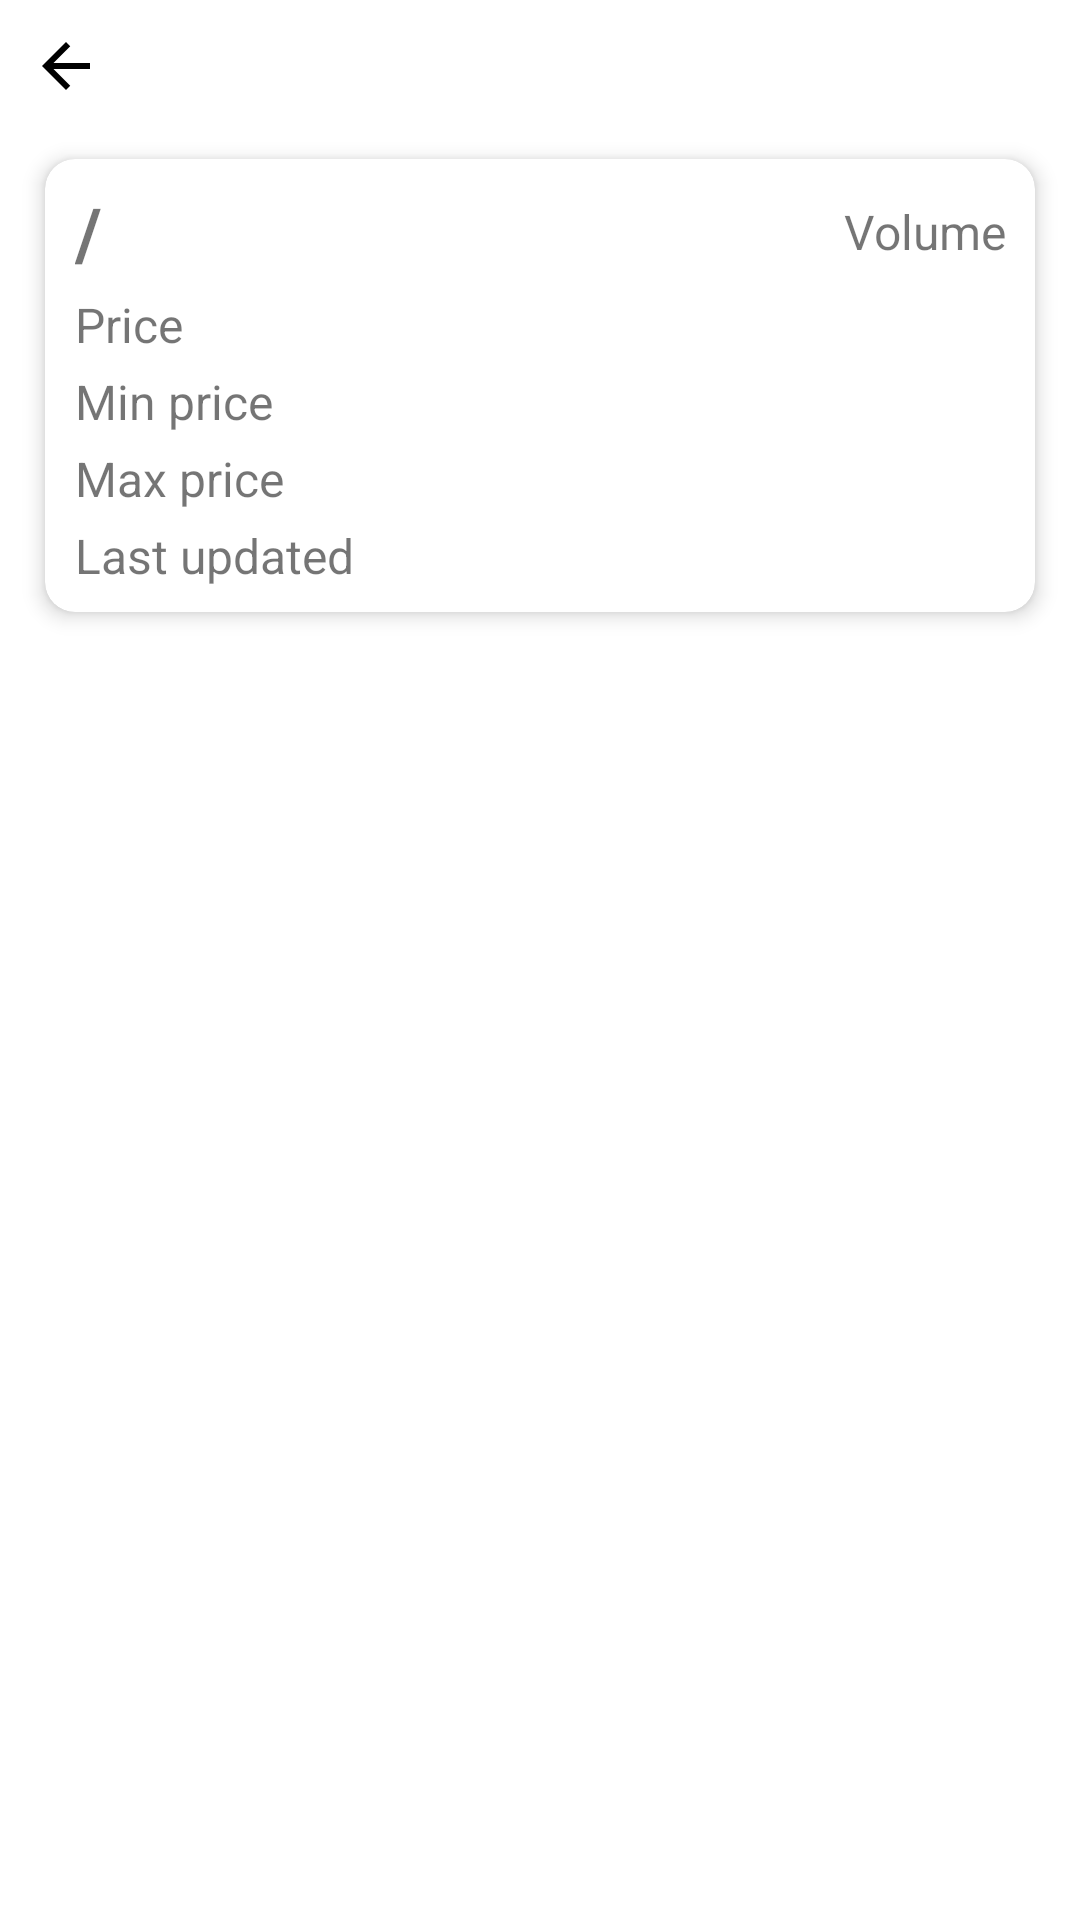

Where icons sit on this 1080×1920 app screen, as BBox(x1, y1, x2, y2):
back: BBox(42, 42, 90, 90)
